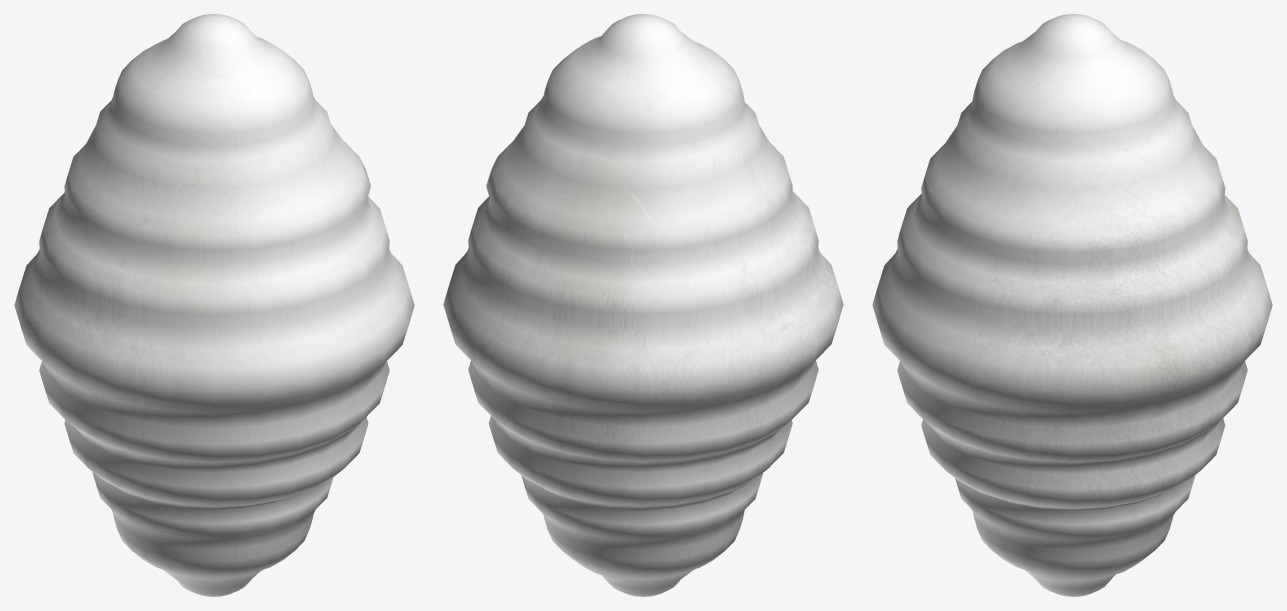
The model's file is cocoon.FBX.
3 renders of one model, left to right at view 1: azimuth 30°, elevation 25°; view 2: azimuth 150°, elevation 25°; view 3: azimuth 270°, elevation 25°, orthographic.
Visible parts, largest first — view 1: Cocoon; view 2: Cocoon; view 3: Cocoon.
Boxes of the visible parts, x1,y1,x2,y2 form: Cocoon: [14, 14, 414, 596]; Cocoon: [443, 14, 843, 596]; Cocoon: [872, 14, 1272, 596].
Bounding box in the file's own units: 30.7 × 48.61 × 30.7.
